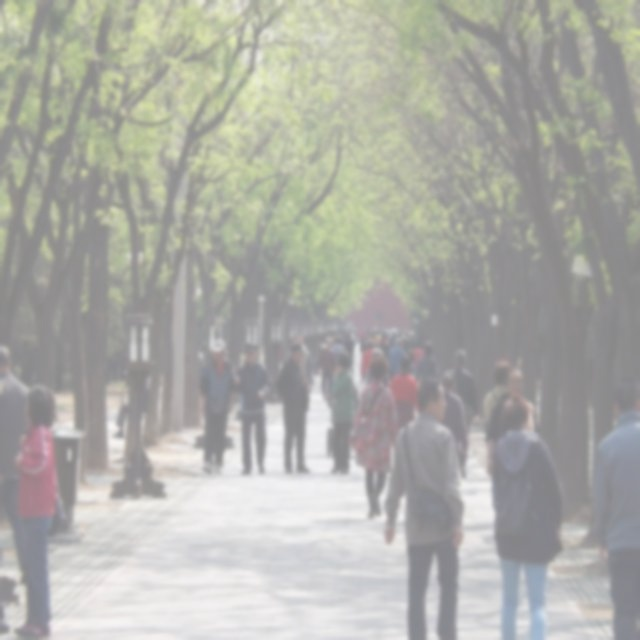pessoa: (379, 372, 466, 640), (488, 392, 566, 639), (10, 378, 72, 640), (592, 373, 640, 639), (347, 353, 399, 521), (484, 364, 540, 478), (228, 338, 274, 476), (272, 341, 312, 476), (198, 338, 237, 474), (450, 348, 480, 478), (324, 356, 360, 464), (330, 349, 356, 476), (438, 369, 469, 467), (328, 324, 431, 352), (388, 354, 421, 437), (111, 376, 150, 438), (482, 359, 512, 427), (292, 330, 314, 396), (414, 340, 440, 386), (320, 335, 337, 403), (364, 348, 390, 390), (386, 336, 407, 383), (0, 548, 10, 634), (360, 338, 376, 378), (344, 332, 356, 380), (412, 339, 424, 382), (402, 335, 414, 363), (358, 332, 371, 354), (378, 332, 392, 350), (332, 350, 344, 366), (406, 350, 414, 374)
